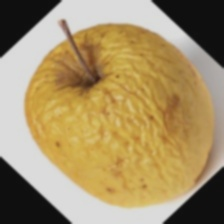apple: (8, 14, 204, 181)
